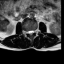CCS_normal: (29, 27, 31, 37)
LFS_normal: (34, 27, 36, 35)
LLS_normal: (31, 28, 34, 35)
RFS_normal: (25, 28, 27, 35)
RLS_normal: (27, 28, 29, 36)
